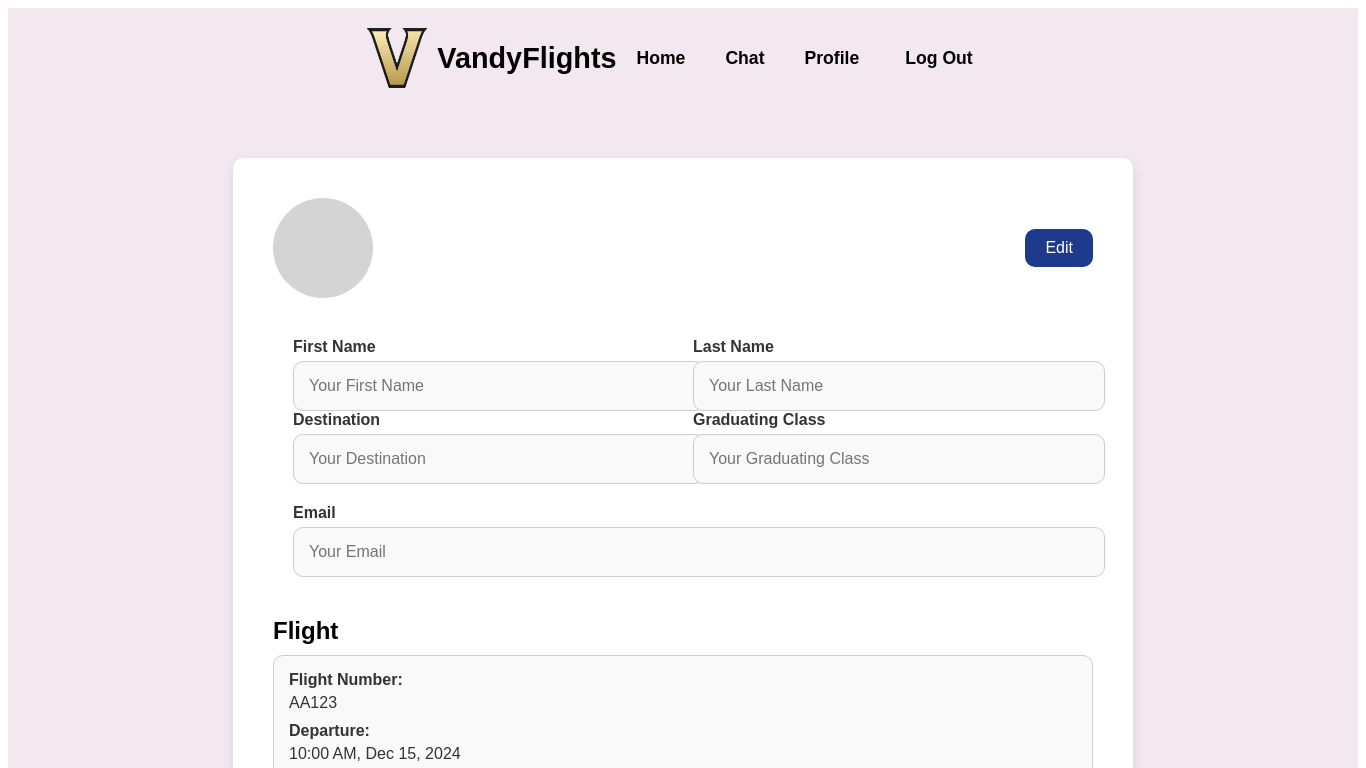
Scenario: EditProfile › saves updated data and switches back to view mode
The image size is (1366, 768).
Click the button "Edit" at (1059, 248), box [1025,229,1093,267]
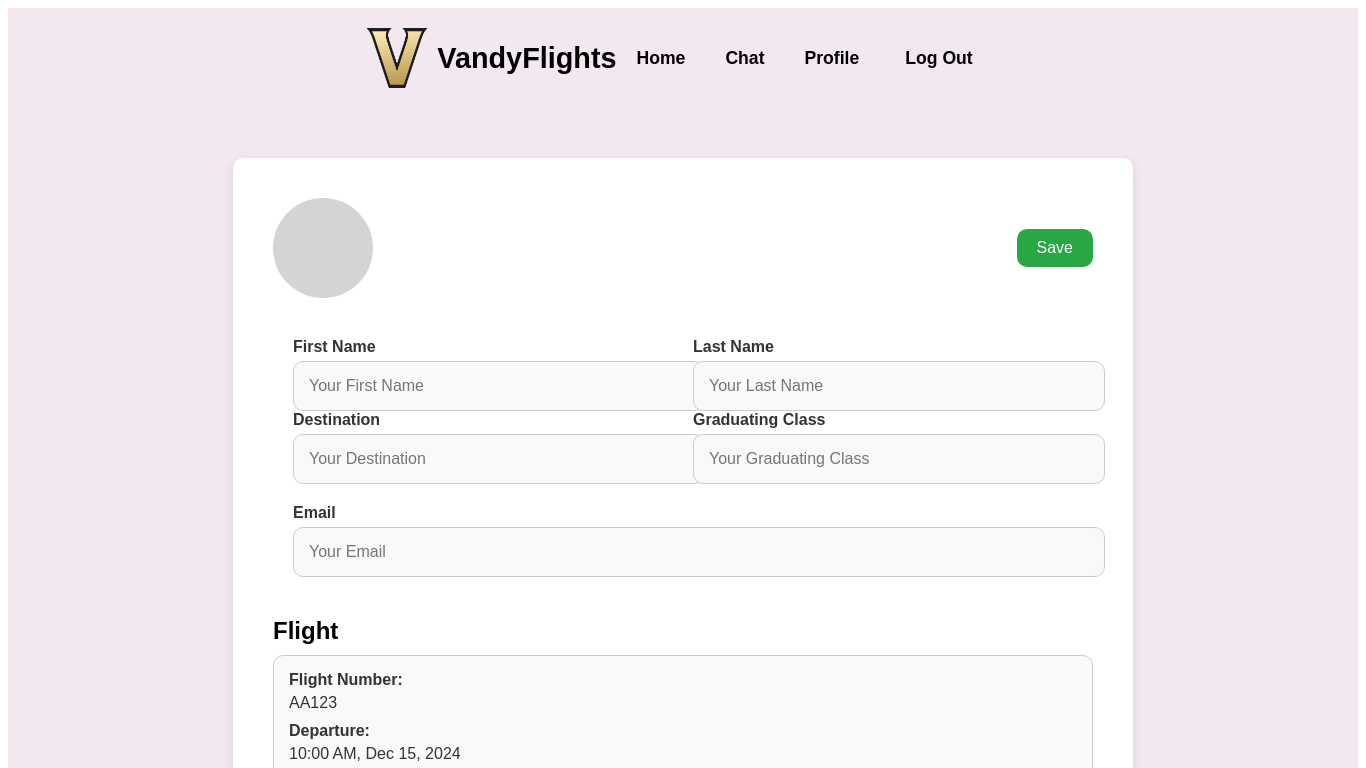
Type "Doe" into the field labelled "Last Name" at (899, 386), box [693,361,1105,411]
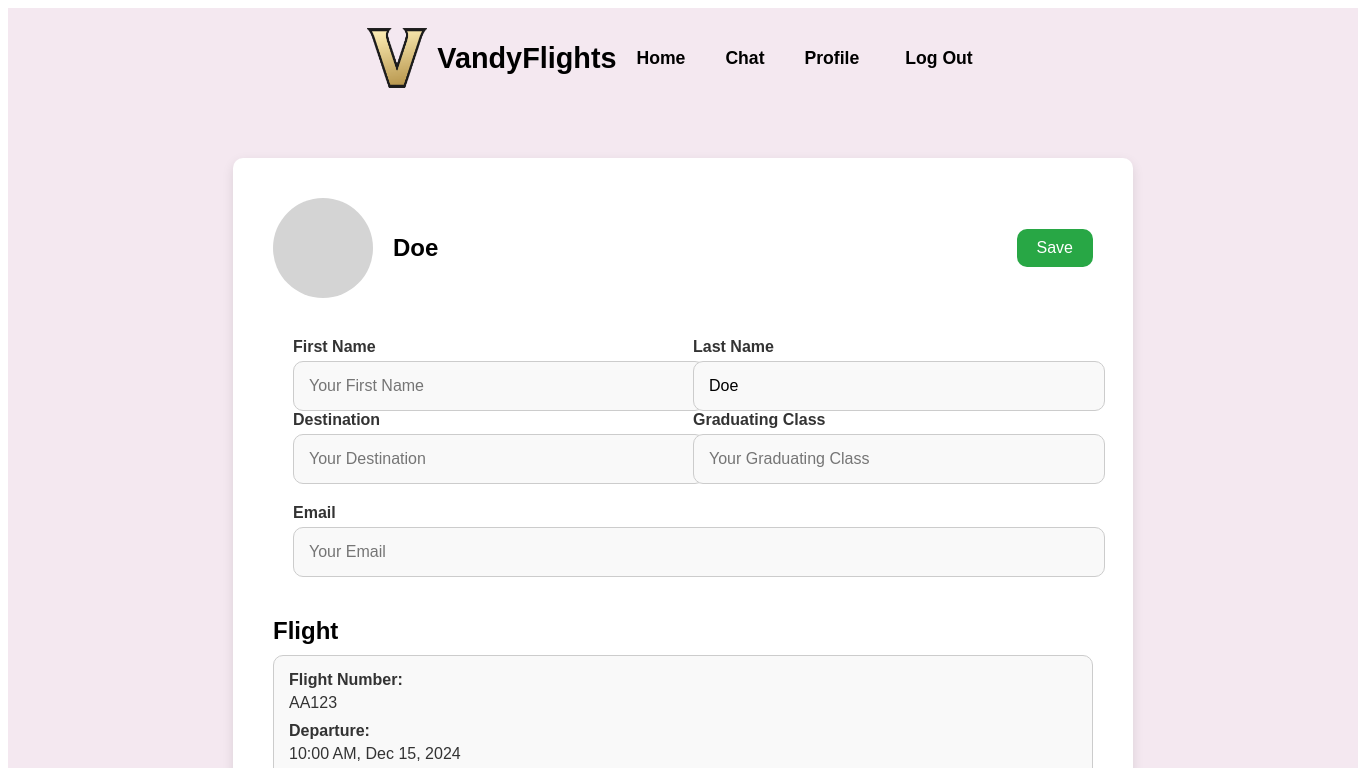
Click the button "Save" at (1055, 248), box [1016,229,1093,267]
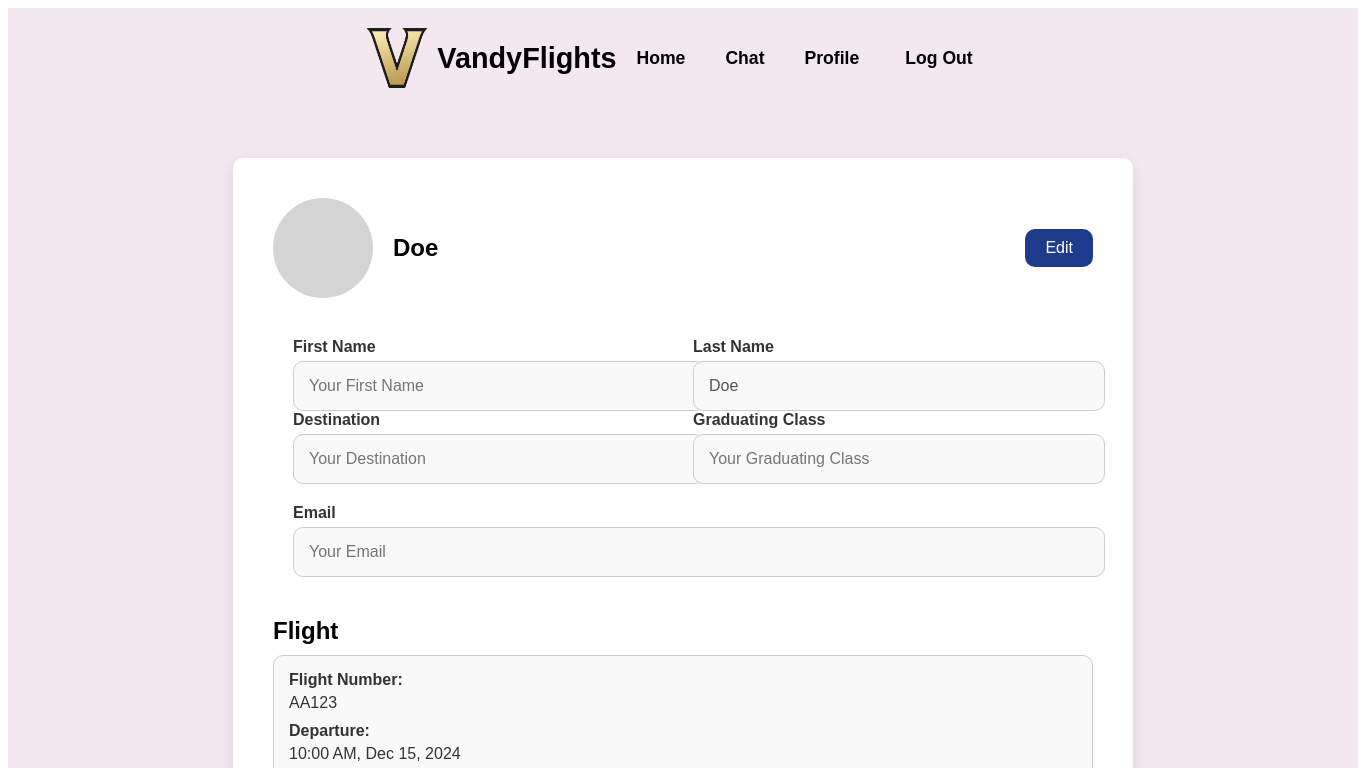
Check: the button "Save" is gone
Check: the button "Edit" is shown, box [1025,229,1093,267]
